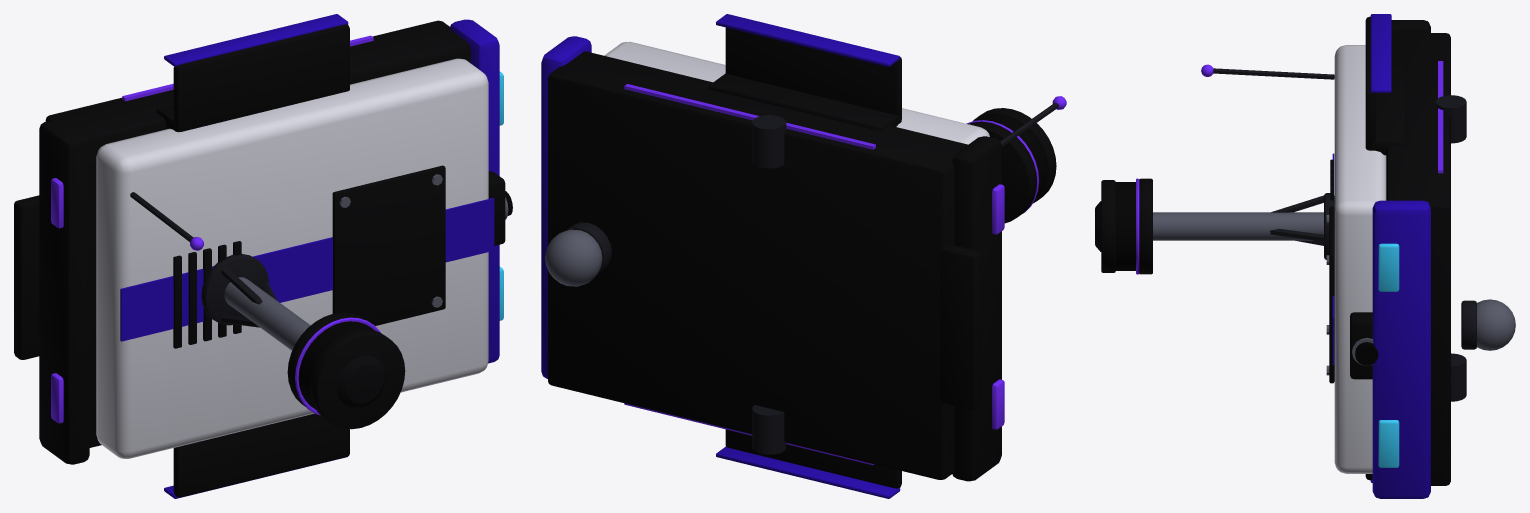
3 views of the same model, side by side, from view 1: azimuth 30°, elevation 25°; view 2: azimuth 150°, elevation 25°; view 3: azimuth 270°, elevation 25° (orthographic). The views are drawn at different scales.
Parts seen in each view (by area): view 1: base; view 2: base; view 3: base.
Boxes of the visible parts, x1=… form: base: x1=14, y1=14, x2=512, y2=498; base: x1=541, y1=14, x2=1066, y2=498; base: x1=1095, y1=14, x2=1515, y2=498.
Bounding box in the file's own units: 0.364 × 0.335 × 0.3248.
